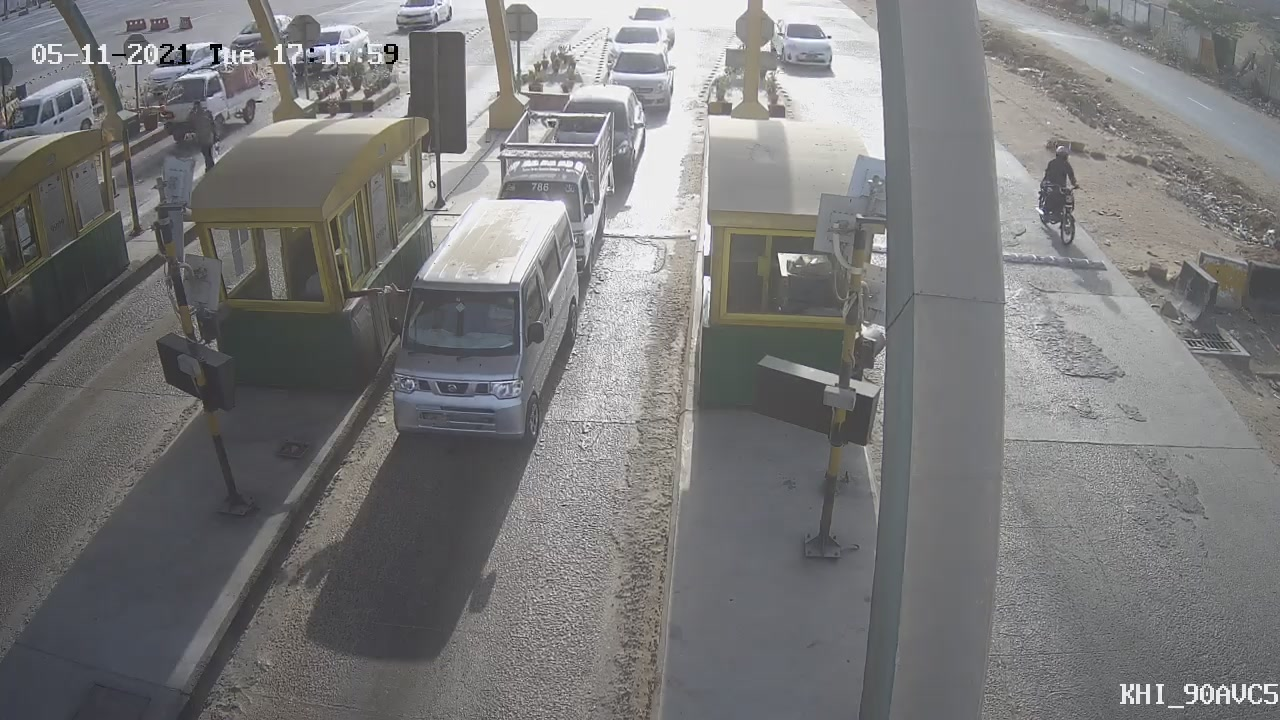F1: (373, 182, 613, 464)
